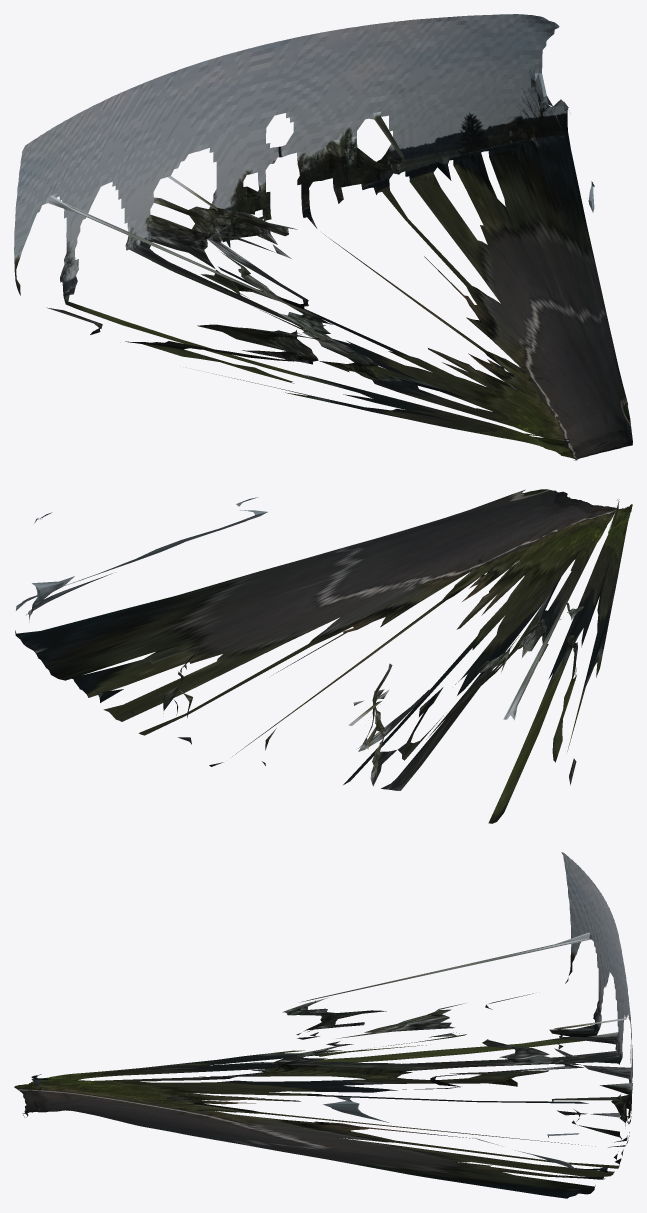
The picture shows the model from 3 angles, top to bottom: view 1: azimuth 30°, elevation 25°; view 2: azimuth 150°, elevation 25°; view 3: azimuth 270°, elevation 25°; orthographic projection. The views are drawn at different scales.
Parts seen in each view (by area): view 1: defaultobject; view 2: defaultobject; view 3: defaultobject.
Boxes of the visible parts, x1,y1,x2,y2 form: defaultobject: (14, 14, 632, 460); defaultobject: (15, 489, 632, 823); defaultobject: (14, 852, 632, 1198).
Size of the model in its own units: 41.12 by 13.94 by 44.95.
1 material, 1 textured.
